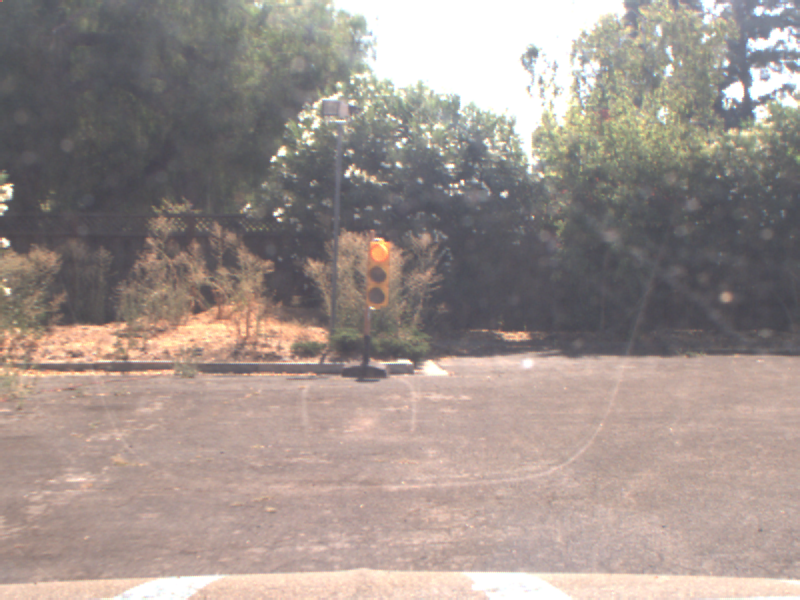red: (365, 237, 392, 313)
